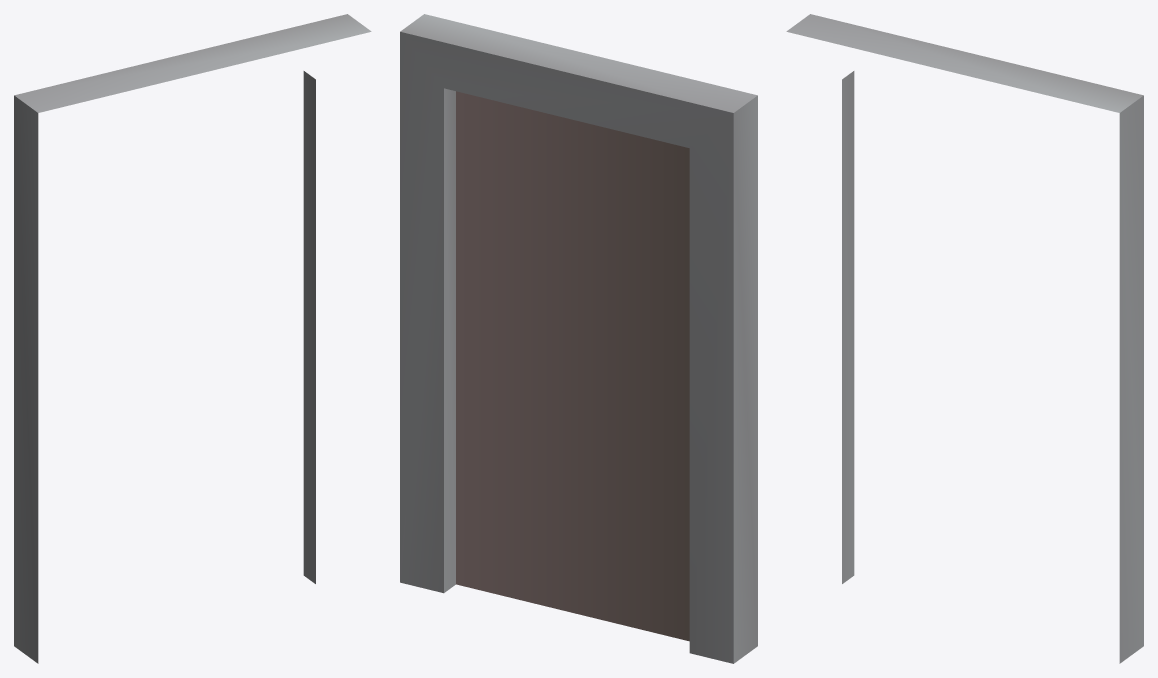
Rendered from door-type-a.glb.
The picture shows the model from 3 angles, left to right: view 1: azimuth 30°, elevation 25°; view 2: azimuth 150°, elevation 25°; view 3: azimuth 330°, elevation 25°; orthographic projection.
Parts seen in each view (by area): view 1: door-type-a; view 2: door-type-a; view 3: door-type-a.
Boxes of the visible parts, x1=… form: door-type-a: x1=14, y1=14, x2=371, y2=663; door-type-a: x1=400, y1=14, x2=757, y2=663; door-type-a: x1=786, y1=14, x2=1143, y2=663.
Bounding box in the file's own units: 0.3978 × 0.6278 × 0.05.
